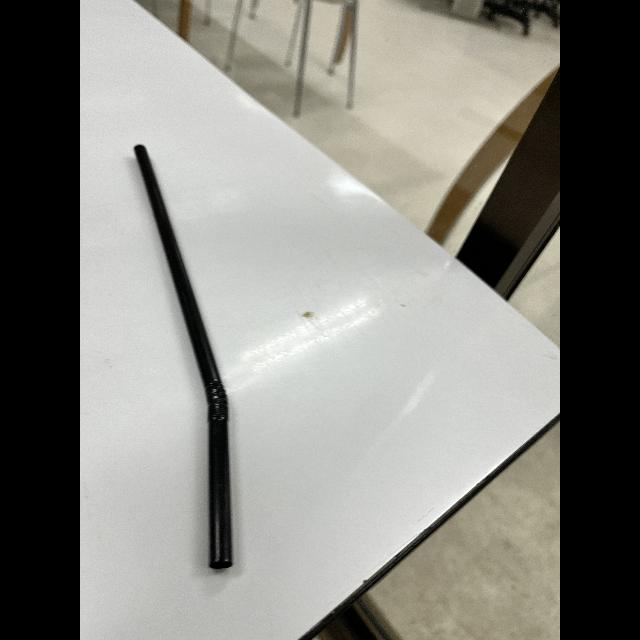straw: (130, 142, 242, 574)
